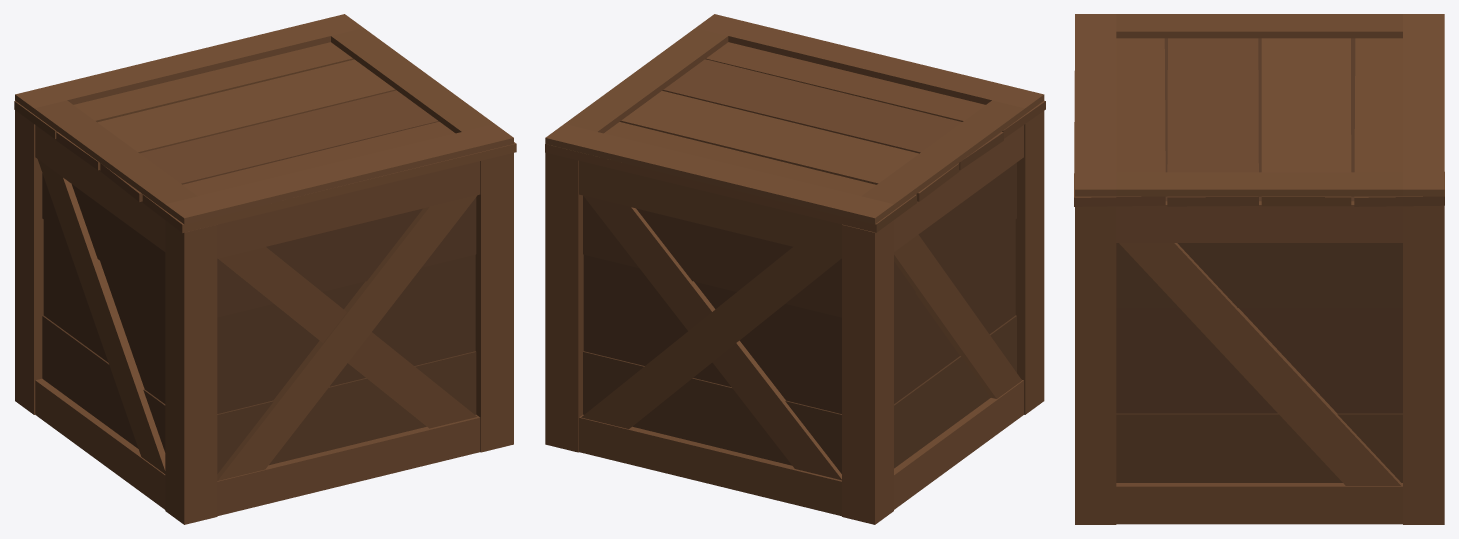
The model's file is tl_furn_crate_large_v01.glb.
The picture shows the model from 3 angles, left to right: view 1: azimuth 30°, elevation 25°; view 2: azimuth 150°, elevation 25°; view 3: azimuth 270°, elevation 25°; orthographic projection. The views are drawn at different scales.
Visible parts, largest first — view 1: tl_furn_crate_large_v01; view 2: tl_furn_crate_large_v01; view 3: tl_furn_crate_large_v01.
Boxes of the visible parts, bbox=[...] form: tl_furn_crate_large_v01: bbox=[14, 14, 516, 524]; tl_furn_crate_large_v01: bbox=[545, 14, 1045, 524]; tl_furn_crate_large_v01: bbox=[1074, 14, 1444, 524].
Bounding box in the file's own units: 0.9122 × 0.8 × 0.8025.
